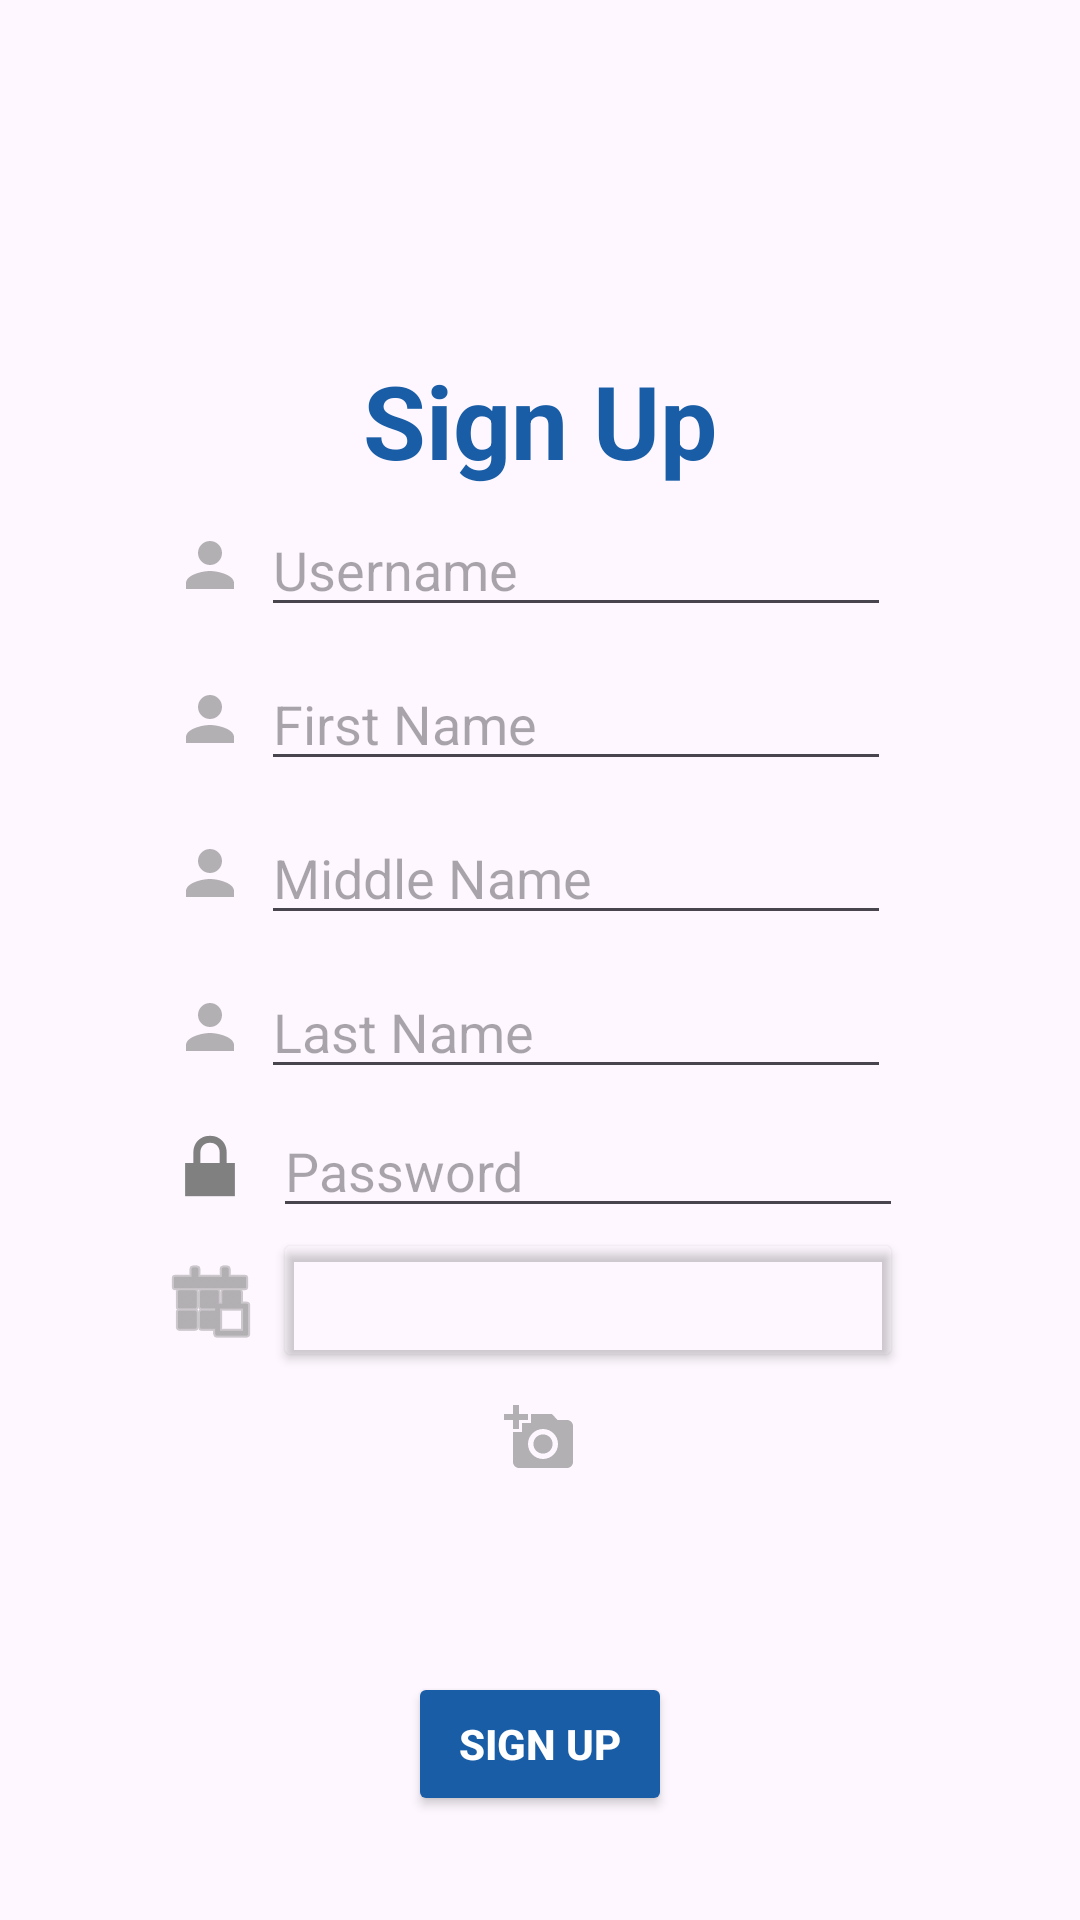

Locate icon controls on the screen. Image size 1080*1920, boxes as [x1, y1, x2, y2].
lock: [185, 1135, 235, 1197]
person: [186, 541, 234, 589], [186, 695, 234, 743], [186, 849, 234, 897], [186, 1003, 234, 1051]
today: [172, 1265, 250, 1338]
upload: [504, 1405, 573, 1468]
